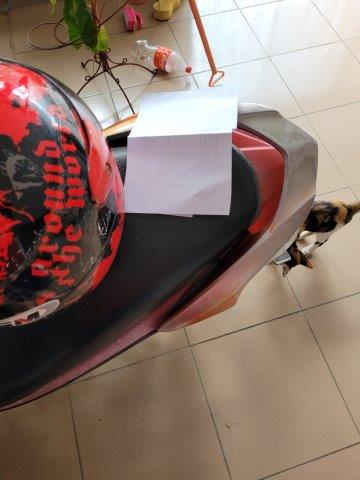botolplastik: (134, 41, 193, 74)
kertas: (120, 89, 237, 216)
